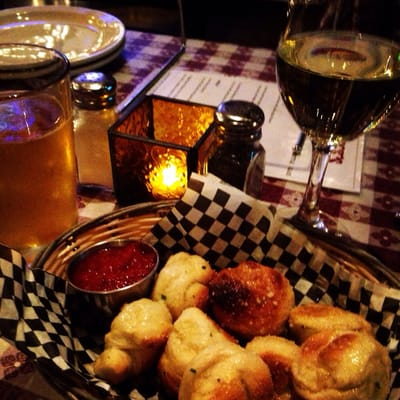sushi: (0, 5, 125, 72)
